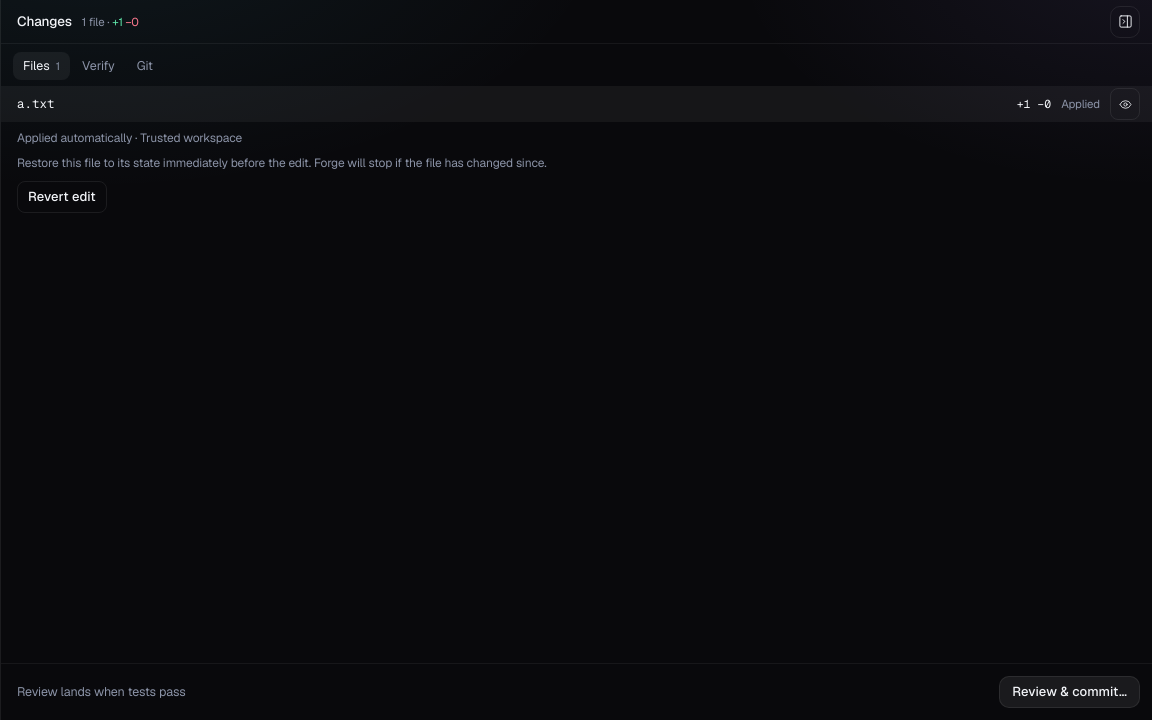
Test: complete empty including uninspected dirty tree shows no Git evidence, Files/Verify stay (AC-08)
This screenshot has width=1152, height=720.
Click the tab "Git" at [145, 66], box [127,52,163,80]
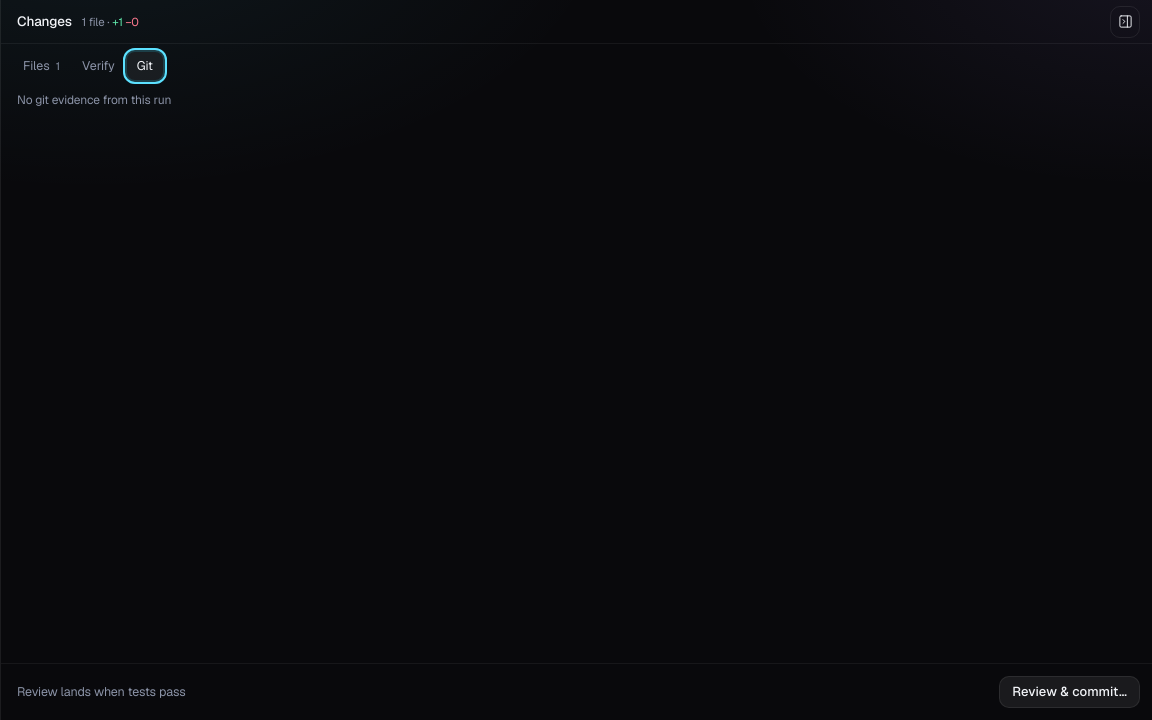
Expected: the text "No git evidence from this run" is shown, [17,92,171,108]
Click the tab "Files 1" at [41, 66], box [13,52,70,80]
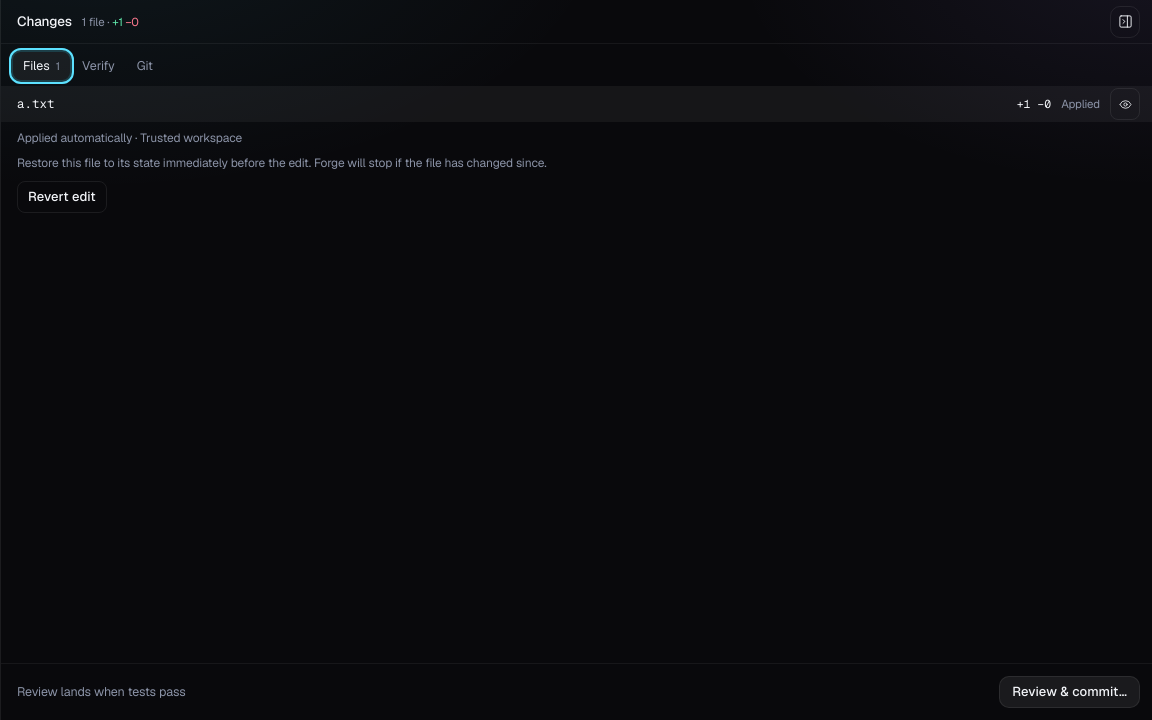
Expected: the text "a.txt" is shown, [17,95,54,112]
Click the tab "Verify" at [98, 66], box [72,52,125,80]
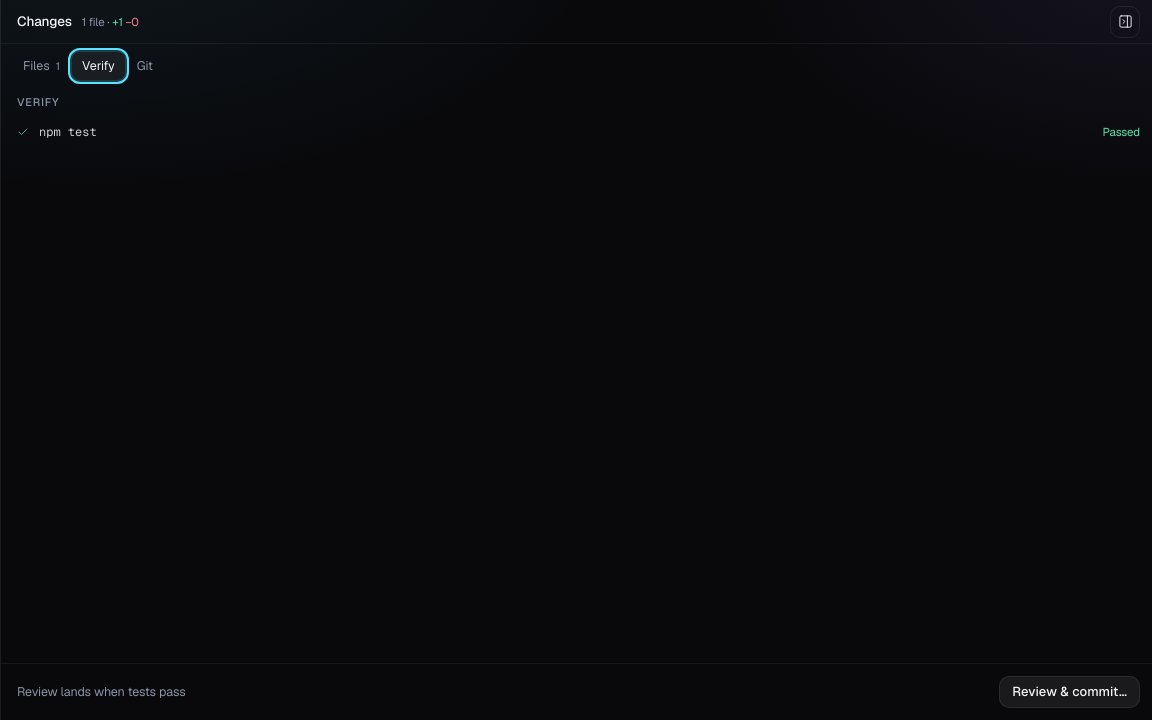
Expected: the text "npm test" is shown, [39,122,97,140]
